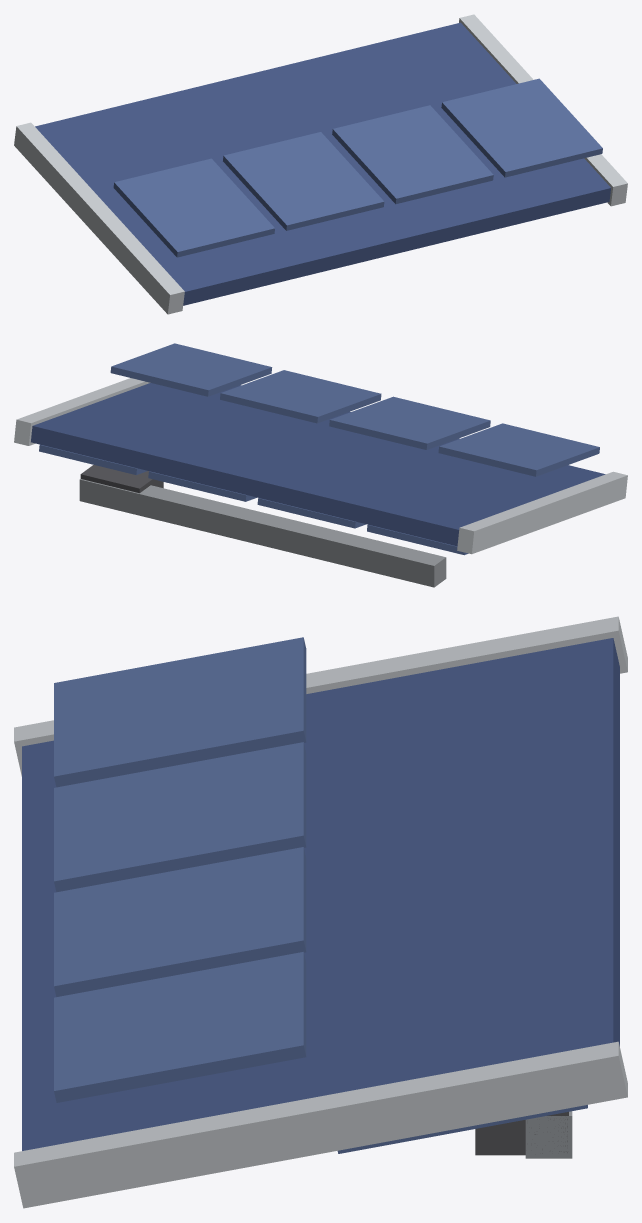
The model's file is solar_panel.glb.
The picture shows the model from 3 angles, top to bottom: view 1: azimuth 30°, elevation 25°; view 2: azimuth 150°, elevation 25°; view 3: azimuth 270°, elevation 25°; orthographic projection. The views are drawn at different scales.
Parts seen in each view (by area): view 1: solar_panel; view 2: solar_panel; view 3: solar_panel.
Boxes of the visible parts, x1,y1,x2,y2 form: solar_panel: (14,14,627,314); solar_panel: (14,343,627,587); solar_panel: (14,616,627,1208).
Size of the model in its own units: 1.55 by 0.2514 by 0.9156.
